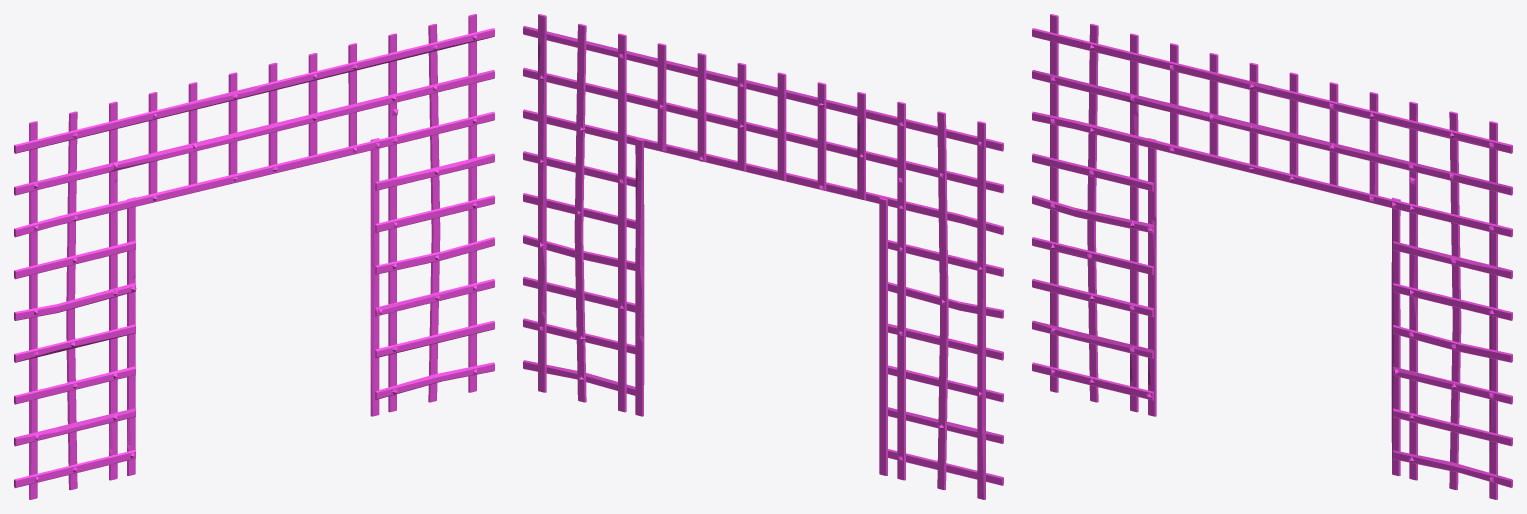
The model's file is SM_Wall_Door_Double_Bars_4x3m_Fantasy.fbx.
3 views of the same model, side by side, from view 1: azimuth 30°, elevation 25°; view 2: azimuth 150°, elevation 25°; view 3: azimuth 330°, elevation 25° (orthographic).
Parts seen in each view (by area): view 1: SM_Wall_Door_Double_Bars_4x3m_Fantasy; view 2: SM_Wall_Door_Double_Bars_4x3m_Fantasy; view 3: SM_Wall_Door_Double_Bars_4x3m_Fantasy.
Part boxes in pixels (x1,y1,x2,y2): SM_Wall_Door_Double_Bars_4x3m_Fantasy: (14, 14, 494, 499); SM_Wall_Door_Double_Bars_4x3m_Fantasy: (523, 14, 1003, 499); SM_Wall_Door_Double_Bars_4x3m_Fantasy: (1032, 14, 1512, 499).
Bounding box in the file's own units: 4 × 3 × 0.0923.
